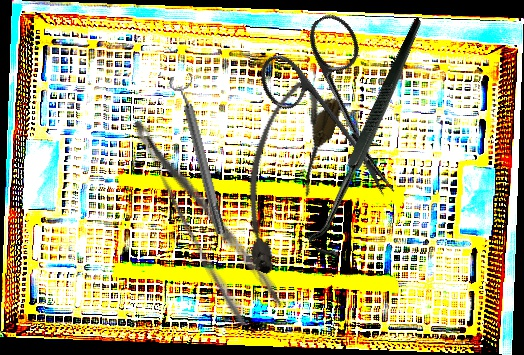Cannula: (217, 76, 346, 279)
Dressing Forceps: (128, 100, 286, 329)
Fixation Ring: (167, 71, 233, 238)
Hook Surgical: (241, 17, 504, 264)
Iris Scissors: (247, 7, 437, 222)
